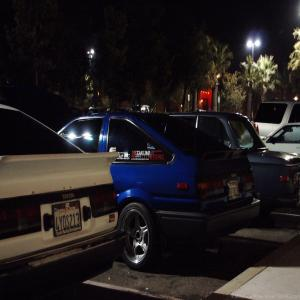Vehicle-registration-plate: (54, 202, 83, 240), (227, 180, 241, 204)
